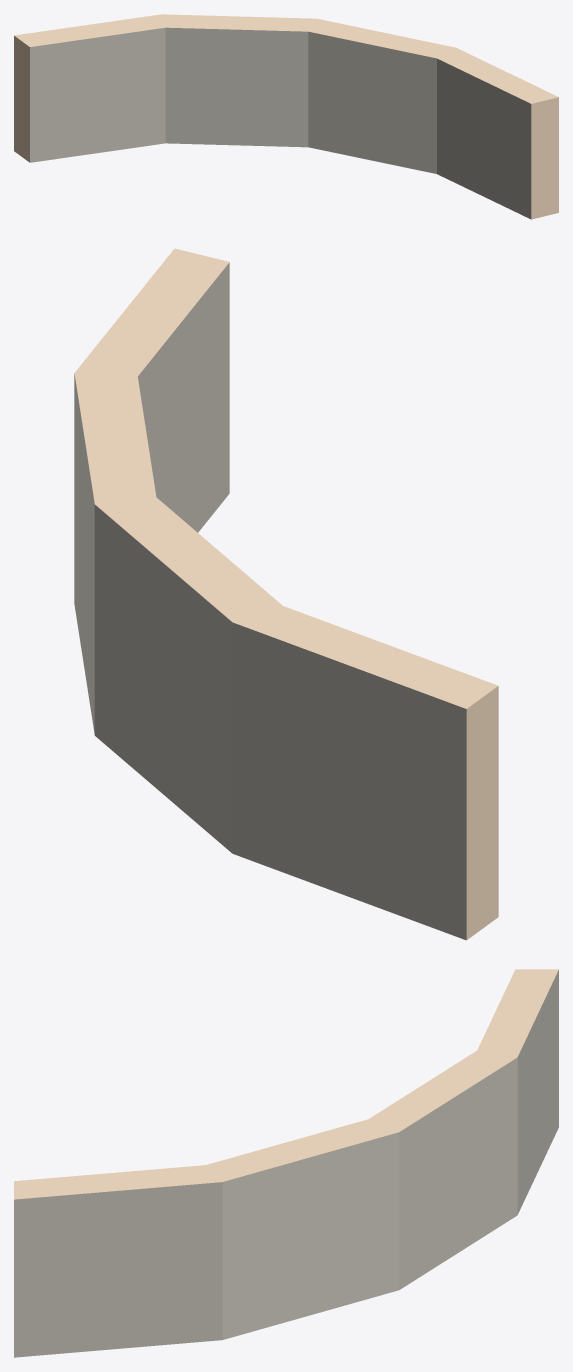
Rendered from Tiered_Retaining_Wall_Flat_Curve_3x3_Mid.glb.
3 views of the same model, one above another, from view 1: azimuth 30°, elevation 25°; view 2: azimuth 150°, elevation 25°; view 3: azimuth 270°, elevation 25° (orthographic). The views are drawn at different scales.
Visible parts, largest first — view 1: Tiered_Retaining_Wall_Flat_Curve_3x3_Mid; view 2: Tiered_Retaining_Wall_Flat_Curve_3x3_Mid; view 3: Tiered_Retaining_Wall_Flat_Curve_3x3_Mid.
Boxes of the visible parts, x1,y1,x2,y2 form: Tiered_Retaining_Wall_Flat_Curve_3x3_Mid: (14, 14, 558, 219); Tiered_Retaining_Wall_Flat_Curve_3x3_Mid: (74, 248, 498, 940); Tiered_Retaining_Wall_Flat_Curve_3x3_Mid: (14, 969, 558, 1357).
Size of the model in its own units: 312 by 100 by 313.
